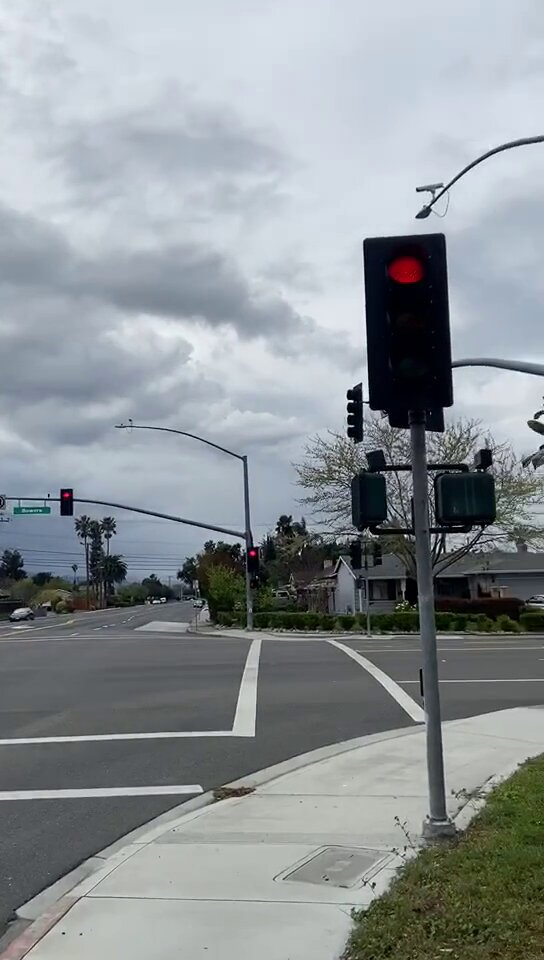red_light: (366, 242, 449, 412), (61, 487, 75, 514), (247, 547, 260, 574)
